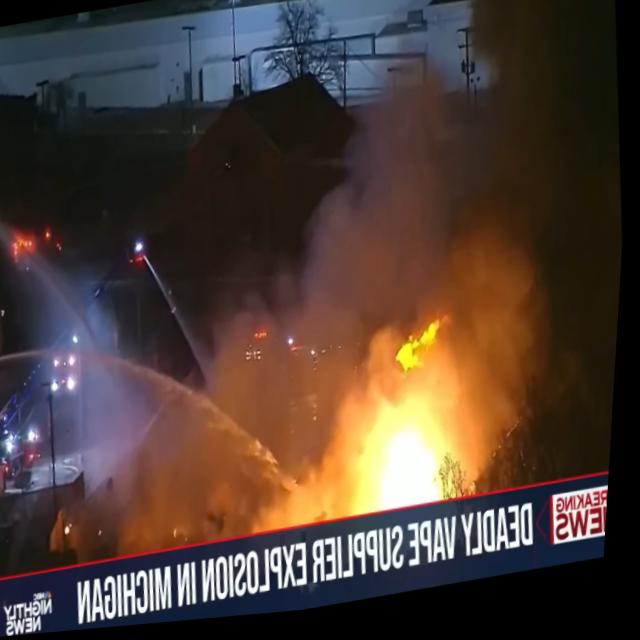Fire: (340, 400, 470, 530), (350, 313, 469, 413), (454, 365, 511, 492)
